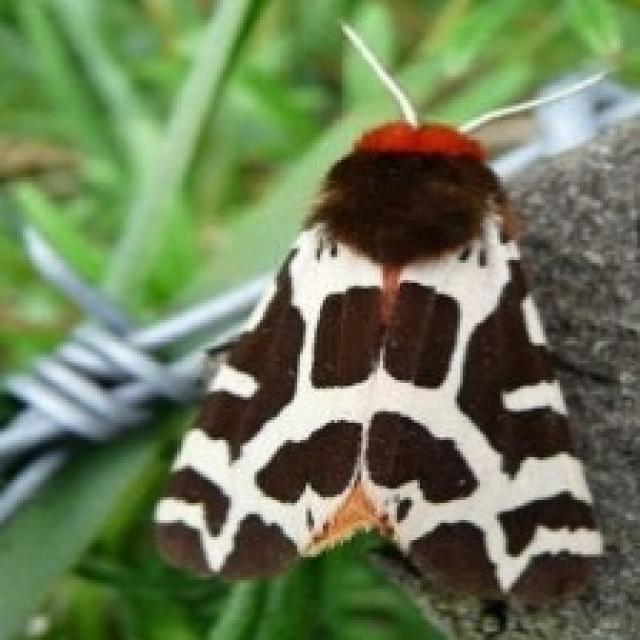butterfly: (146, 20, 623, 626)
